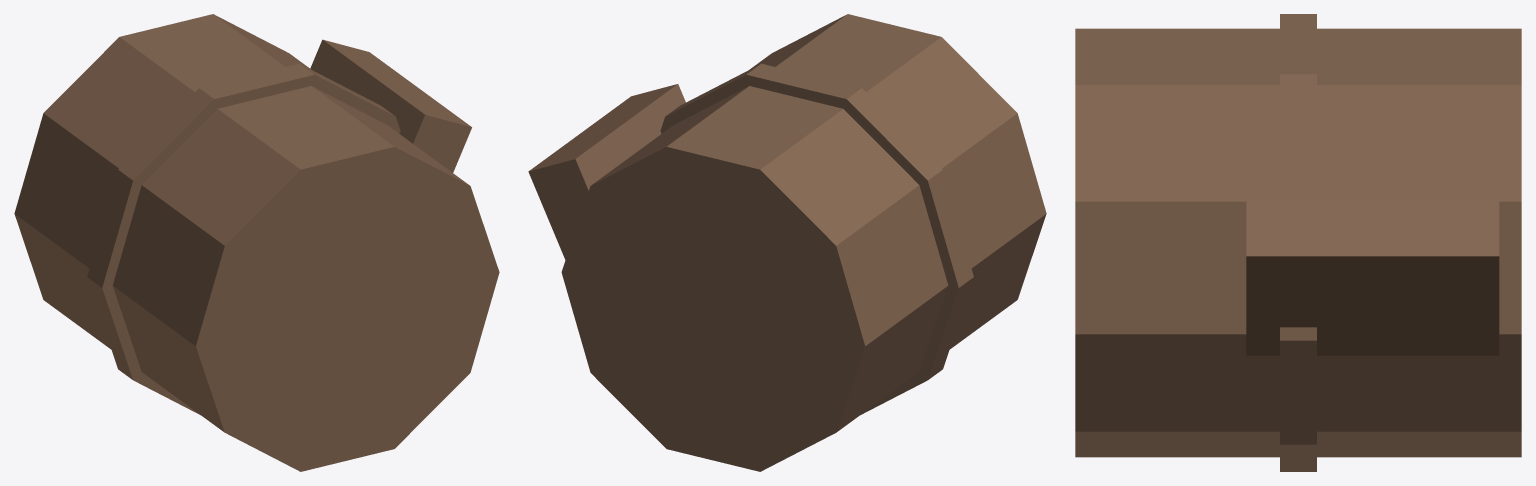
The model's file is fuel_drum_burst.glb.
3 views of the same model, side by side, from view 1: azimuth 30°, elevation 25°; view 2: azimuth 150°, elevation 25°; view 3: azimuth 270°, elevation 25° (orthographic). The views are drawn at different scales.
Visible parts, largest first — view 1: fuel_drum_burst; view 2: fuel_drum_burst; view 3: fuel_drum_burst.
Boxes of the visible parts, left/top/right/bottom form: fuel_drum_burst: left=14, top=14, right=499, bottom=471; fuel_drum_burst: left=528, top=14, right=1046, bottom=471; fuel_drum_burst: left=1075, top=14, right=1521, bottom=471.
Size of the model in its own units: 0.6807 by 0.5897 by 0.6.
